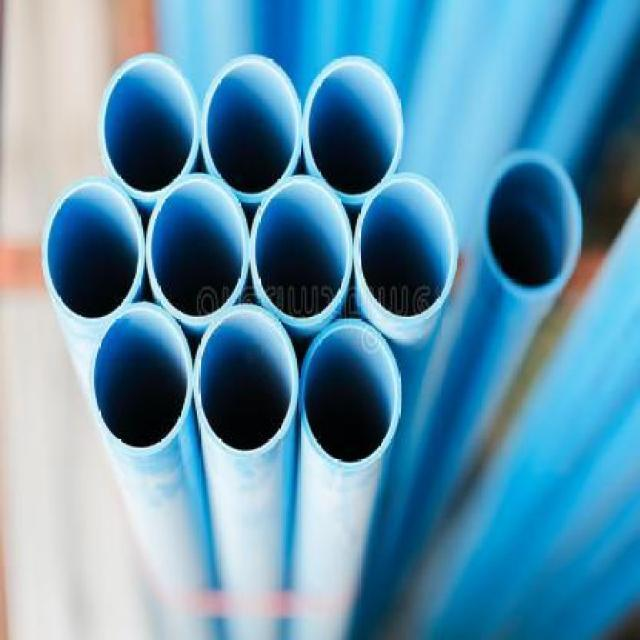pipe: (354, 172, 459, 326), (194, 305, 297, 459), (89, 302, 191, 456), (146, 174, 248, 327), (250, 176, 353, 327), (298, 320, 400, 471), (42, 179, 145, 327), (480, 149, 582, 297), (201, 55, 302, 203), (303, 57, 403, 205), (99, 54, 199, 199)
